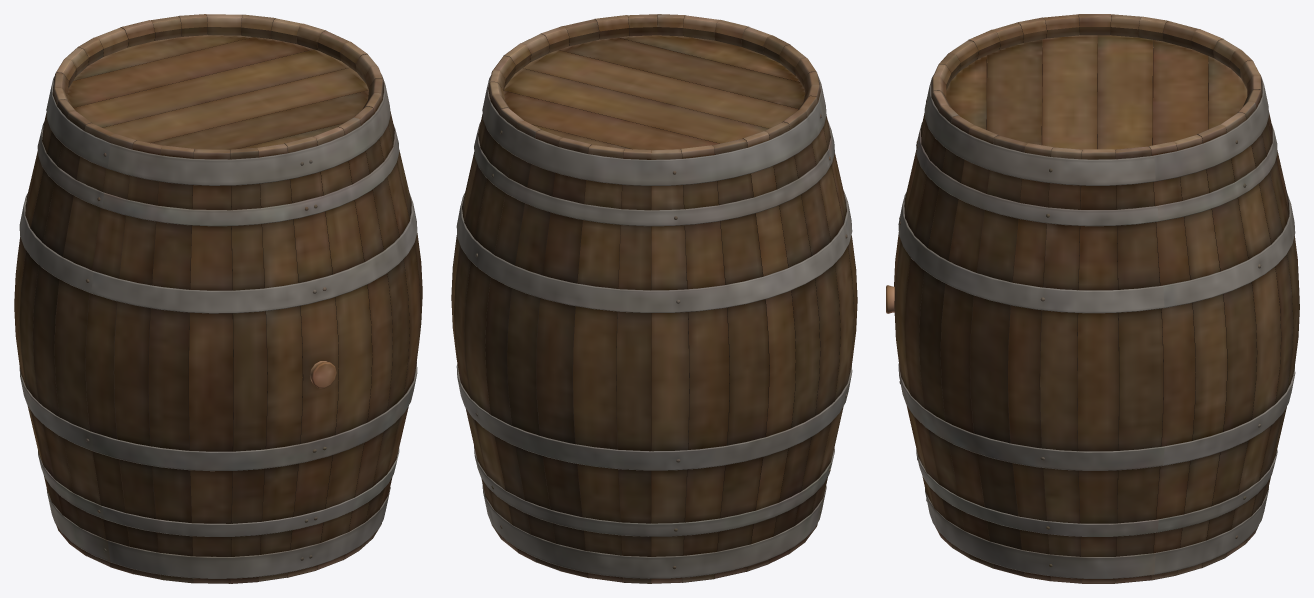
File: wine_barrel_01.glb
The picture shows the model from 3 angles, left to right: view 1: azimuth 30°, elevation 25°; view 2: azimuth 150°, elevation 25°; view 3: azimuth 270°, elevation 25°; orthographic projection.
Bounding box in the file's own units: 0.7419 × 0.8713 × 0.756.
Materials: 1 (1 with a texture image).
